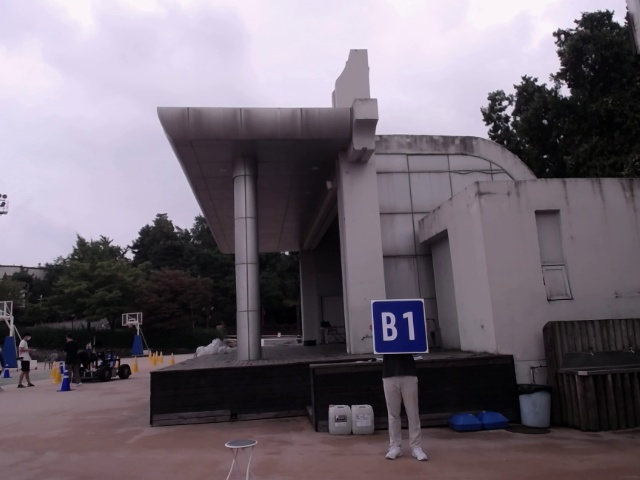delivery_b1: (371, 299, 428, 354)
